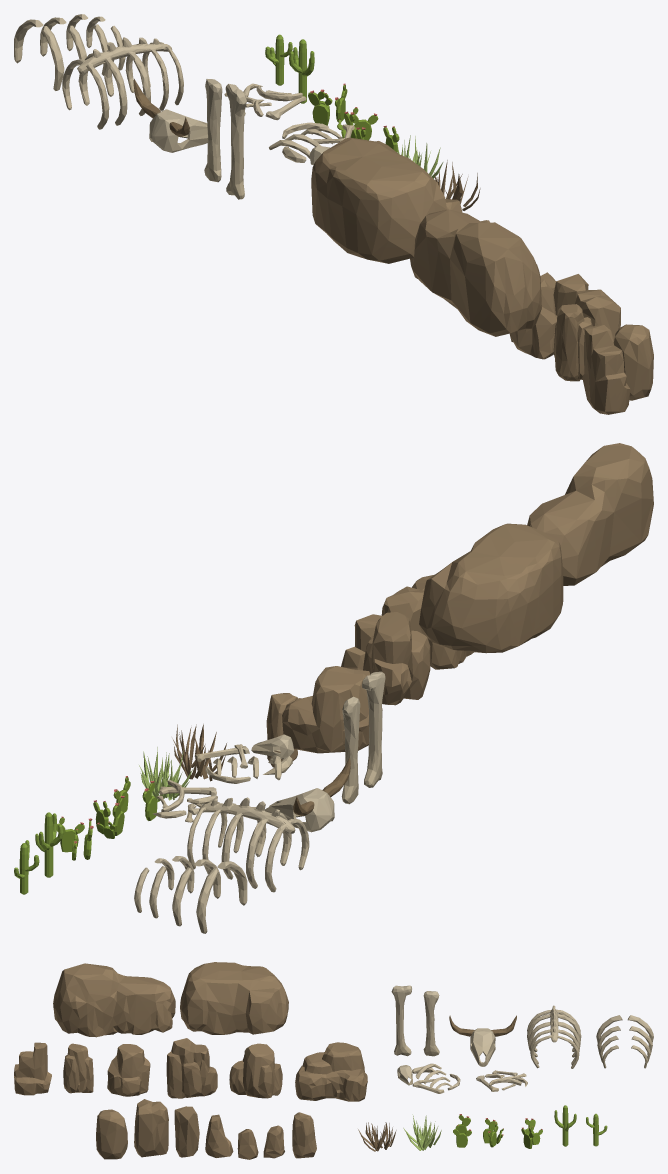
Rendered from desert-environment.glb.
The picture shows the model from 3 angles, top to bottom: view 1: azimuth 30°, elevation 25°; view 2: azimuth 150°, elevation 25°; view 3: azimuth 270°, elevation 25°; orthographic projection. The views are drawn at different scales.
Visible parts, largest first — view 1: Cube.010, Cube.009, Icosphere.028, Icosphere.023, Icosphere.031, Icosphere.030, Cube.008, Icosphere.018, Icosphere.020, Icosphere.032, Icosphere.026, Icosphere.027 (+8 smaller); view 2: Cube.010, Cube.009, Plane.011, Icosphere.028, Icosphere.022, Icosphere.031, Icosphere.032, Icosphere.030, Icosphere.026, Icosphere.027, Icosphere.033, Plane.017 (+7 smaller); view 3: Cube.009, Cube.010, Plane.011, Icosphere.024, Icosphere.022, Icosphere.020, Icosphere.019, Icosphere.028, Icosphere.023, Icosphere.018, Cube.008, Icosphere.031 (+15 smaller).
Boxes of the visible parts, x1,y1,x2,y2 form: Cube.010: (311, 137, 446, 263); Cube.009: (413, 209, 541, 336); Icosphere.028: (62, 37, 183, 129); Icosphere.023: (582, 325, 630, 414); Icosphere.031: (14, 14, 125, 90); Icosphere.030: (133, 79, 207, 152); Cube.008: (553, 304, 592, 381); Icosphere.018: (613, 324, 653, 400); Icosphere.020: (509, 278, 557, 359); Icosphere.032: (269, 122, 354, 164); Icosphere.026: (225, 83, 246, 199); Icosphere.027: (204, 79, 222, 182); Cube.010: (419, 523, 563, 653); Cube.009: (527, 443, 653, 585); Plane.011: (282, 666, 382, 753); Icosphere.028: (187, 797, 309, 892); Icosphere.022: (363, 612, 430, 705); Icosphere.031: (134, 856, 247, 933); Icosphere.032: (194, 734, 294, 783); Icosphere.030: (264, 758, 350, 832); Icosphere.026: (362, 671, 385, 787); Icosphere.027: (341, 696, 360, 804); Icosphere.033: (152, 780, 223, 822); Plane.017: (172, 724, 226, 781); Cube.009: (53, 963, 175, 1037); Cube.010: (180, 962, 288, 1034); Plane.011: (295, 1042, 367, 1101); Icosphere.024: (166, 1038, 217, 1098); Icosphere.022: (229, 1043, 282, 1098); Icosphere.020: (107, 1044, 150, 1096); Icosphere.019: (134, 1099, 168, 1157); Icosphere.028: (527, 1005, 581, 1068); Icosphere.023: (14, 1042, 51, 1095); Icosphere.018: (96, 1109, 127, 1159); Cube.008: (63, 1043, 93, 1093); Icosphere.031: (596, 1015, 653, 1068).
Bounding box in the file's own units: 208 × 168 × 696.
Materials: 1 (1 with a texture image).
